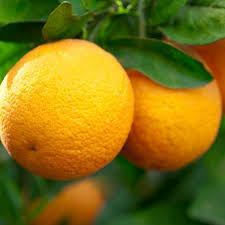orange: (1, 40, 133, 187), (111, 31, 225, 181)
